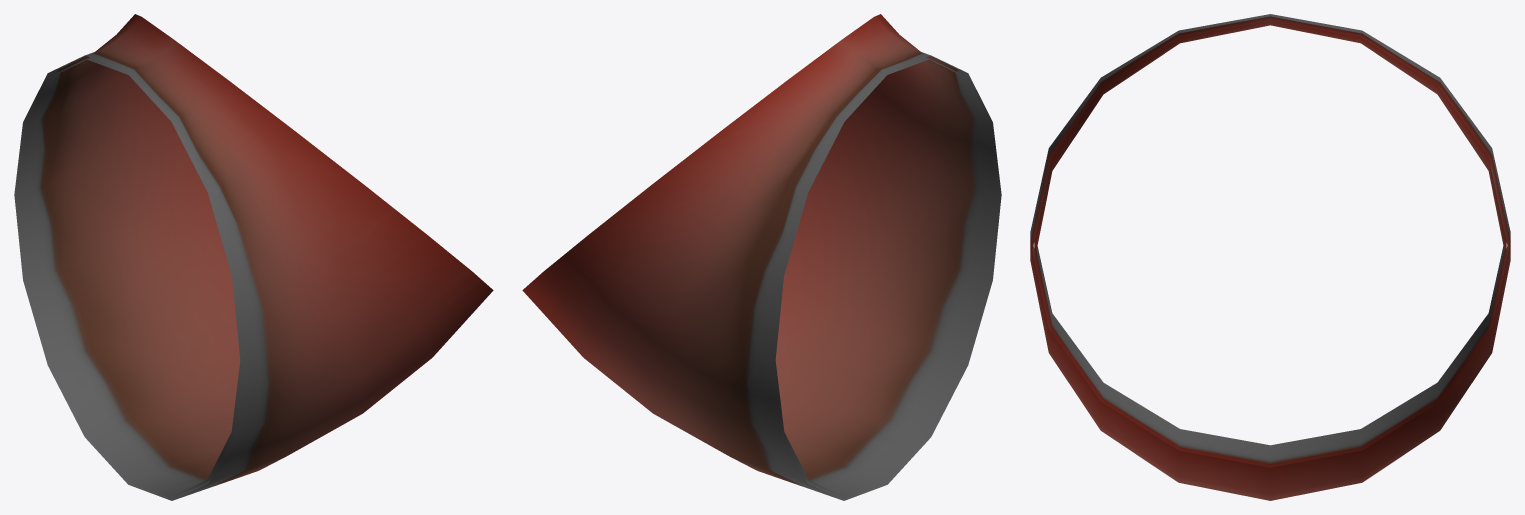
Rendered from pipe01_crn_8a_hollow.fbx.
The picture shows the model from 3 angles, left to right: view 1: azimuth 30°, elevation 25°; view 2: azimuth 150°, elevation 25°; view 3: azimuth 270°, elevation 25°; orthographic projection. The views are drawn at different scales.
Parts seen in each view (by area): view 1: pipe01_crn_8a_hollow; view 2: pipe01_crn_8a_hollow; view 3: pipe01_crn_8a_hollow.
Boxes of the visible parts, x1=… form: pipe01_crn_8a_hollow: x1=14, y1=14, x2=493, y2=500; pipe01_crn_8a_hollow: x1=522, y1=14, x2=1001, y2=500; pipe01_crn_8a_hollow: x1=1030, y1=14, x2=1510, y2=500.
Bounding box in the file's own units: 9.91 × 12.59 × 12.
